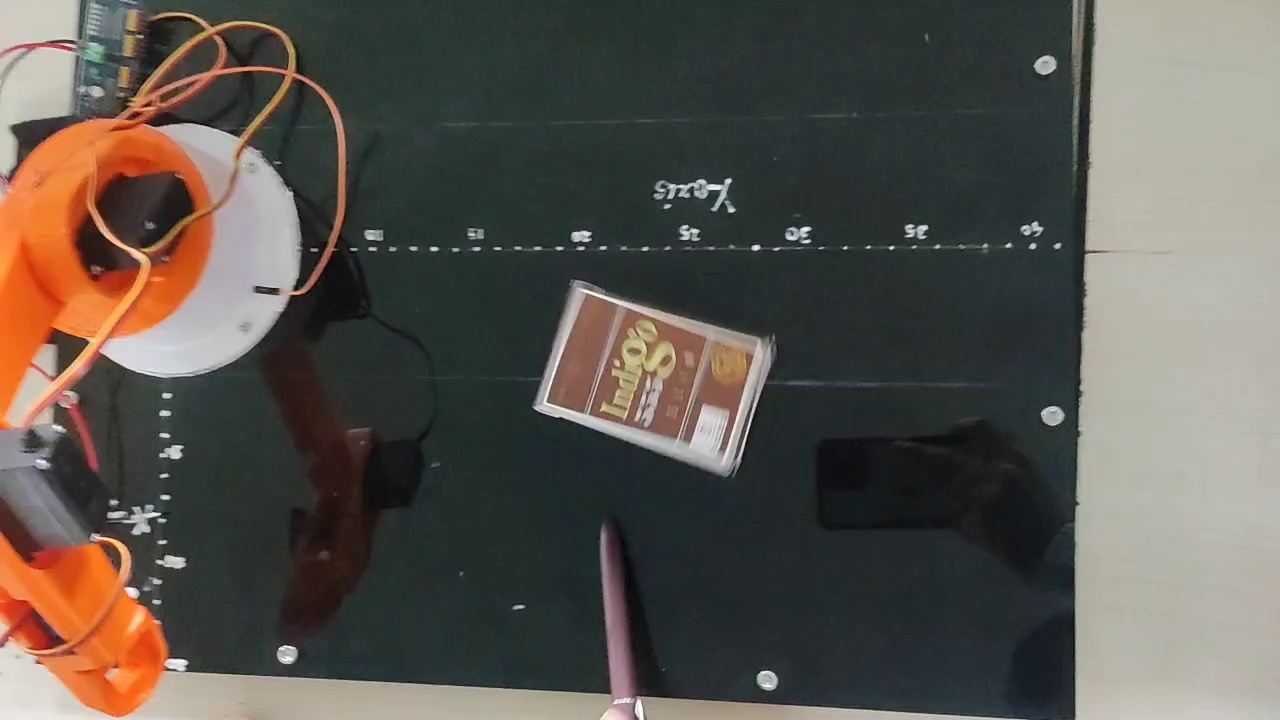BEX: (543, 286, 765, 471)
